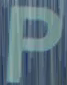Parking: (3, 1, 60, 81)
